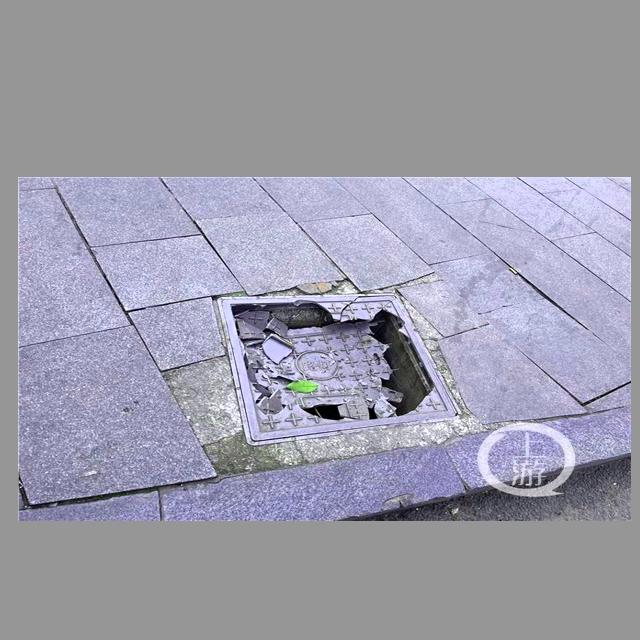broke: (196, 282, 490, 452)
